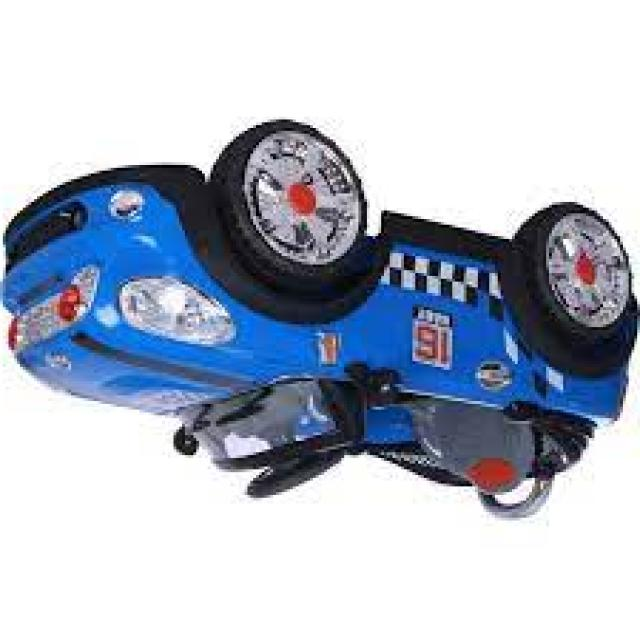Car: (6, 122, 640, 521)
